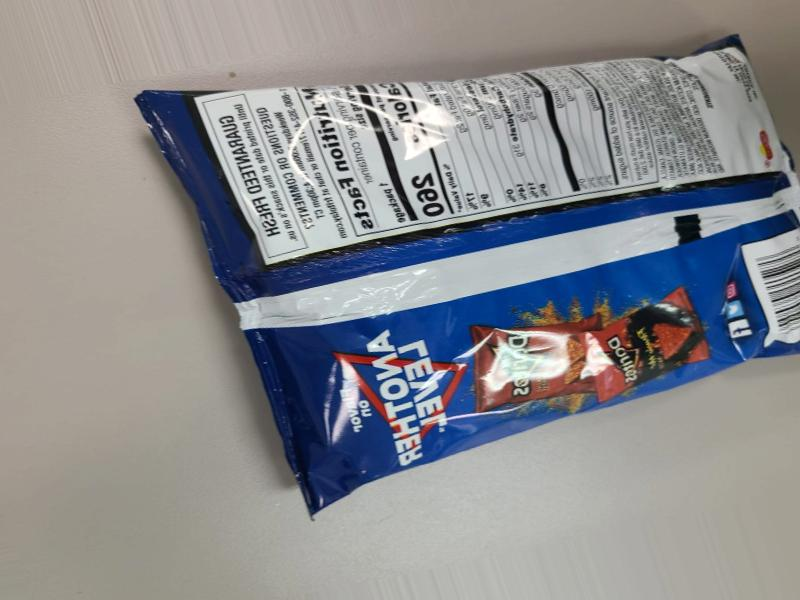doritos: (167, 70, 774, 487)
